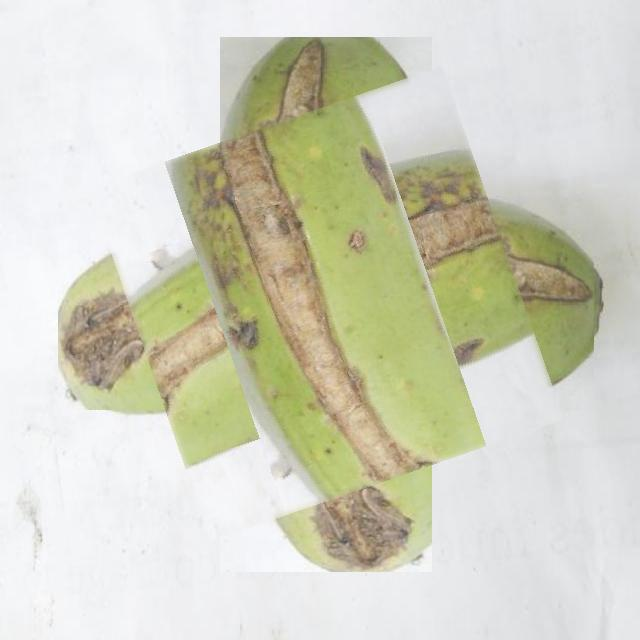Podre: (114, 92, 539, 516)
